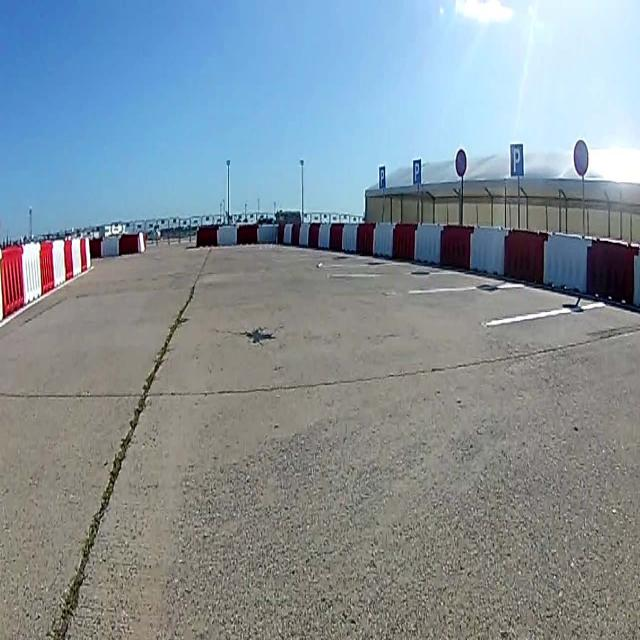park: (509, 143, 524, 178), (412, 159, 422, 185), (378, 166, 386, 190)
parkyasak: (572, 139, 589, 177), (455, 148, 467, 177)
